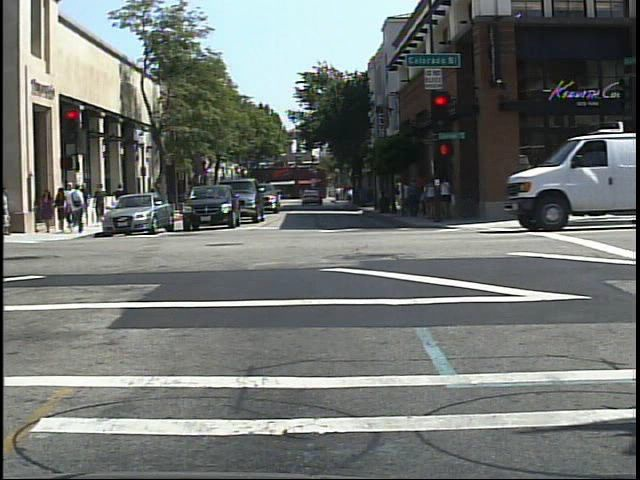person: (66, 181, 89, 238)
